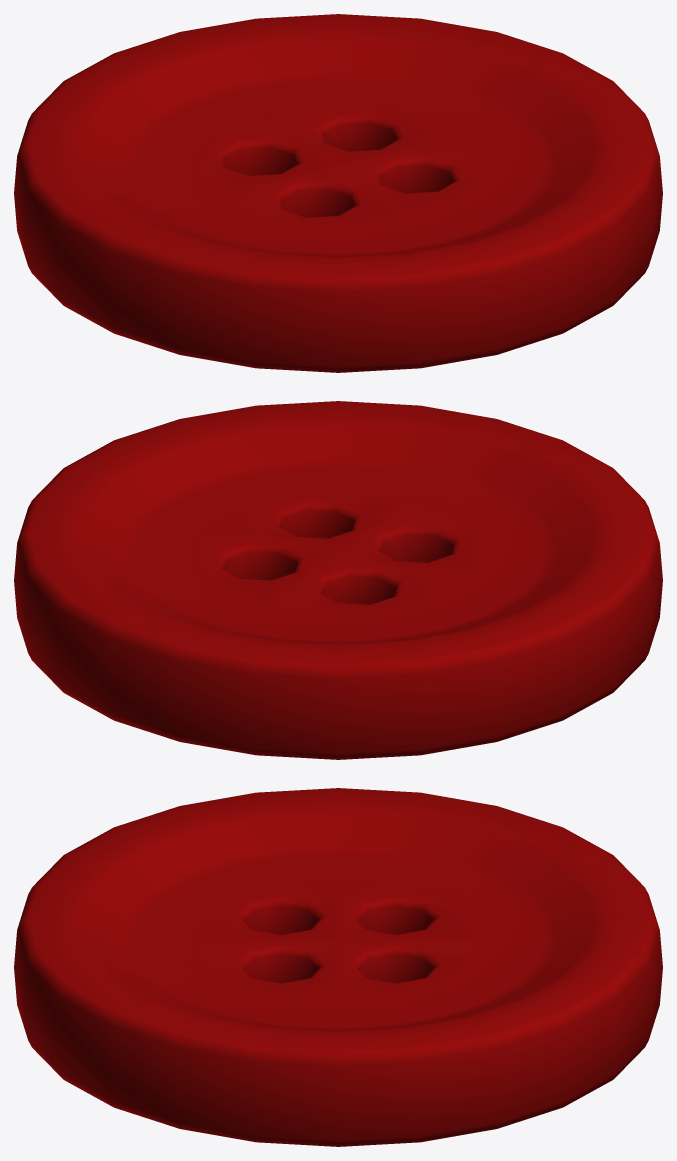
The model's file is button.FBX.
3 views of the same model, one above another, from view 1: azimuth 30°, elevation 25°; view 2: azimuth 150°, elevation 25°; view 3: azimuth 270°, elevation 25° (orthographic).
Parts seen in each view (by area): view 1: button; view 2: button; view 3: button.
Part boxes in pixels (x1,y1,x2,y2): button: (14,14,662,372); button: (14,401,662,759); button: (14,788,662,1146).
Size of the model in its own units: 1.08 by 0.1764 by 1.08.
